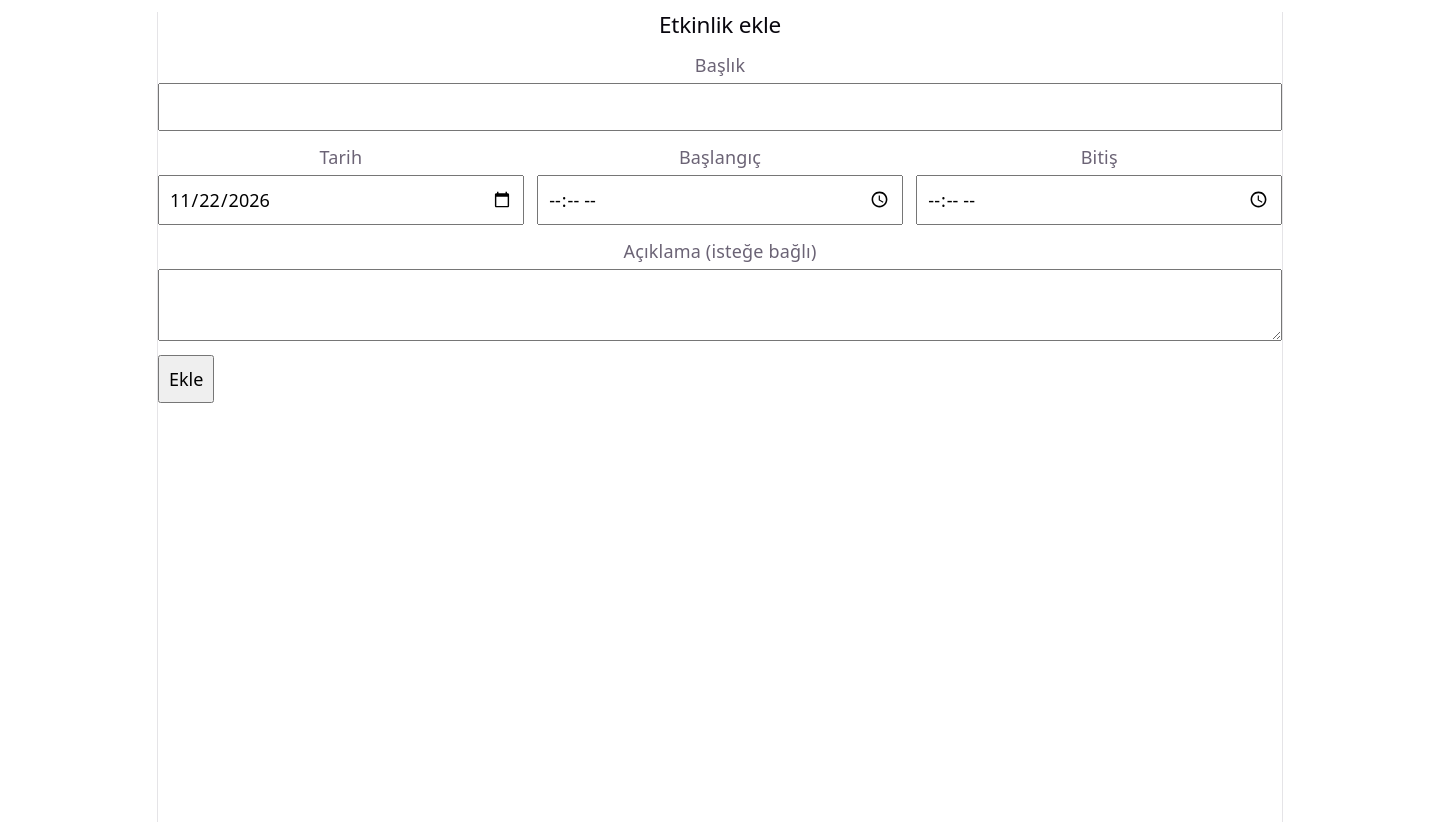
AddEventForm (FR-M3-01) › disables the button while the event is being saved
In the field labelled "Başlık": (720, 107) [158,83,1282,131], type "Yüzme"
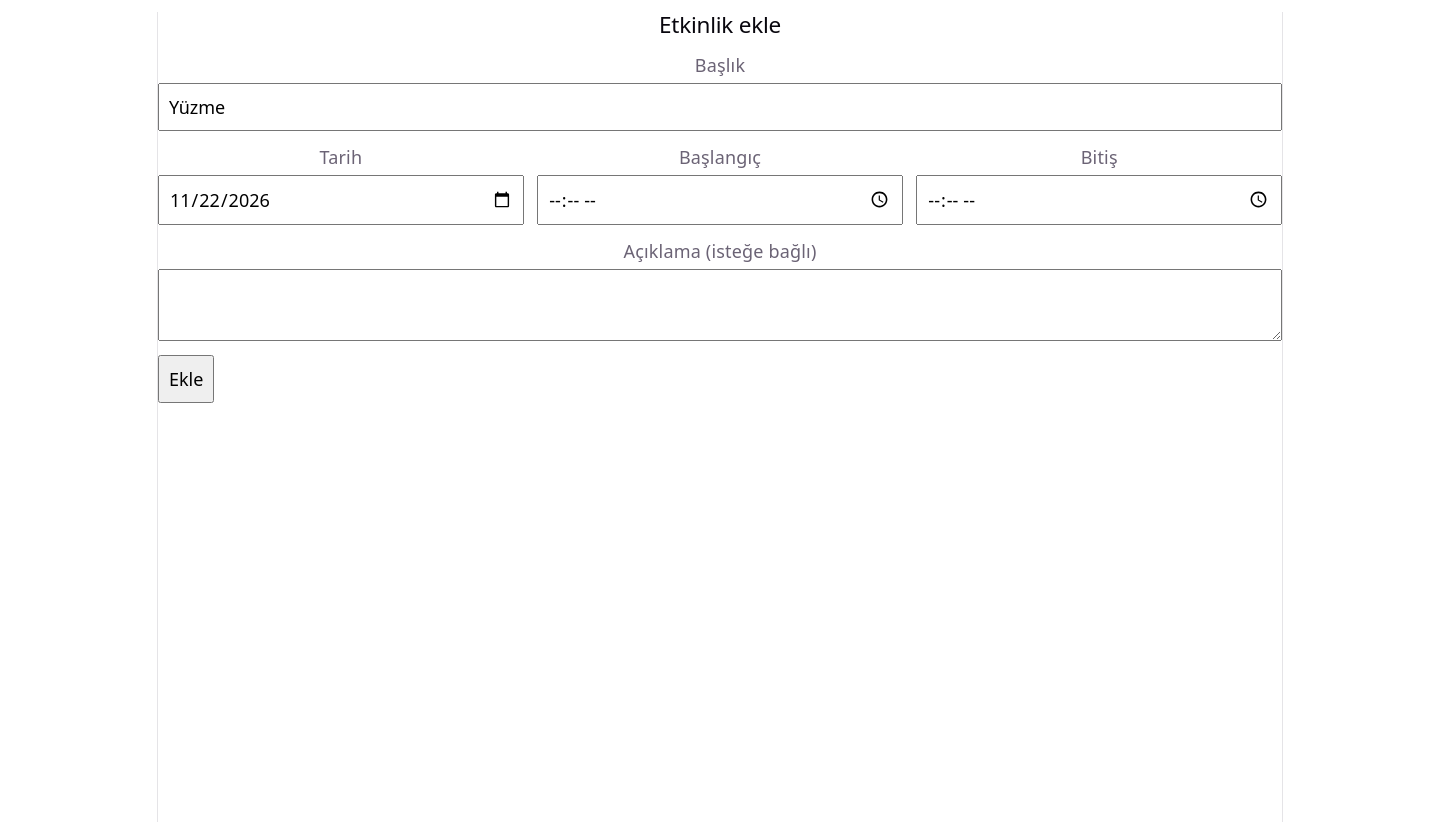
In the date field labelled "Tarih": (341, 200) [158,175,524,225], type "2026-11-20"
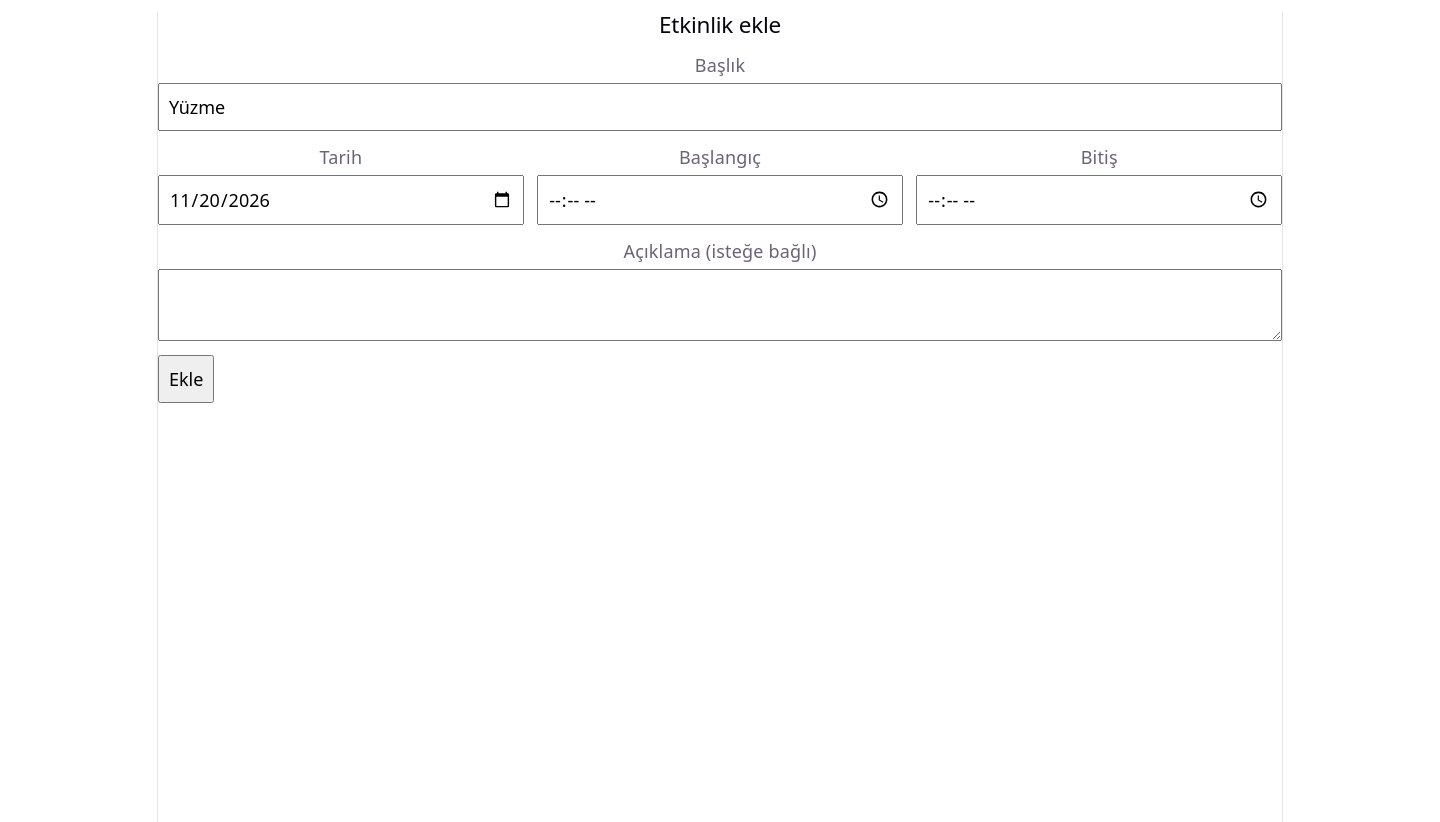
In the time field labelled "Başlangıç": (720, 200) [537,175,903,225], type "17:00"
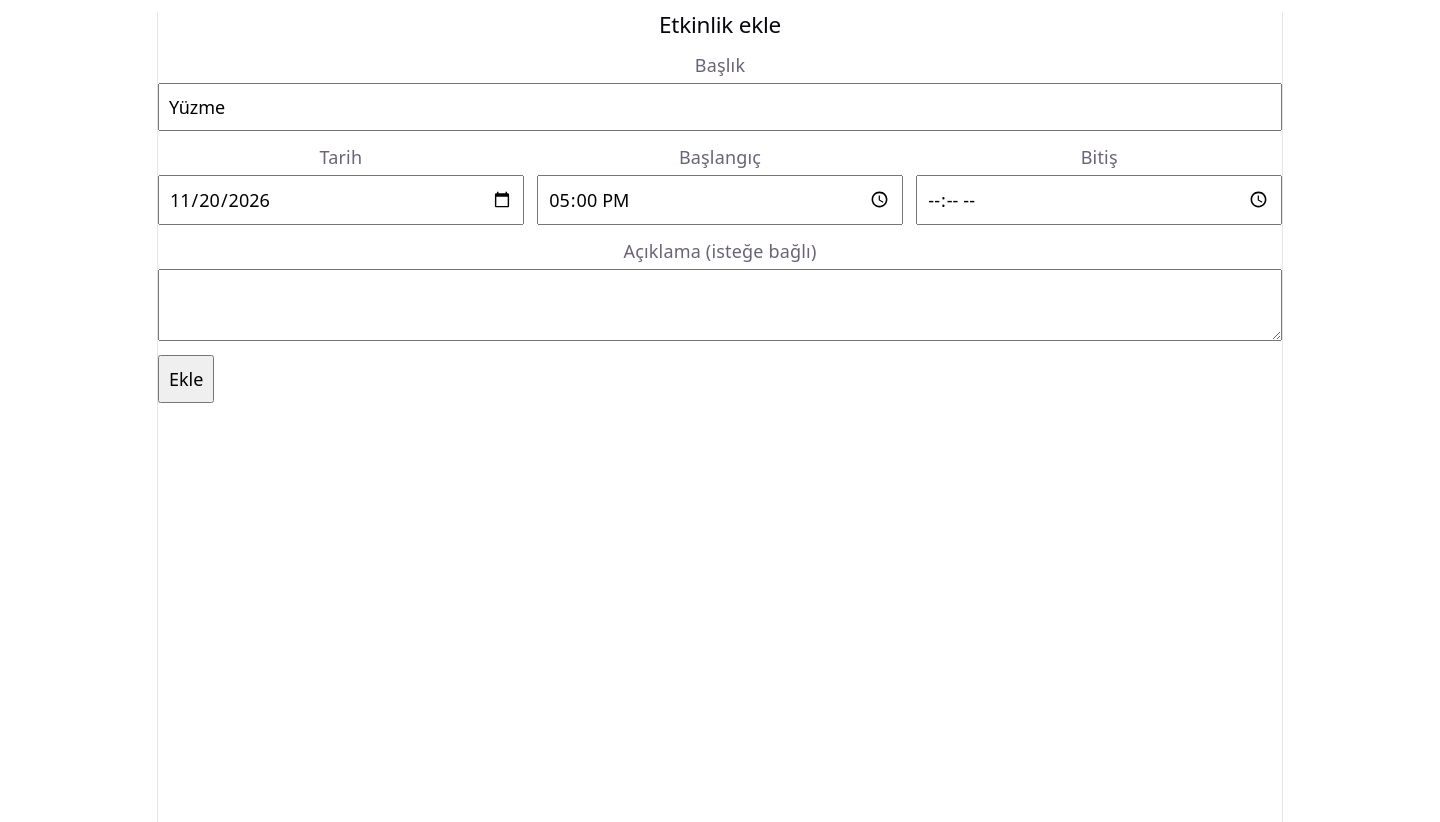
In the time field labelled "Bitiş": (1099, 200) [916,175,1282,225], type "18:00"
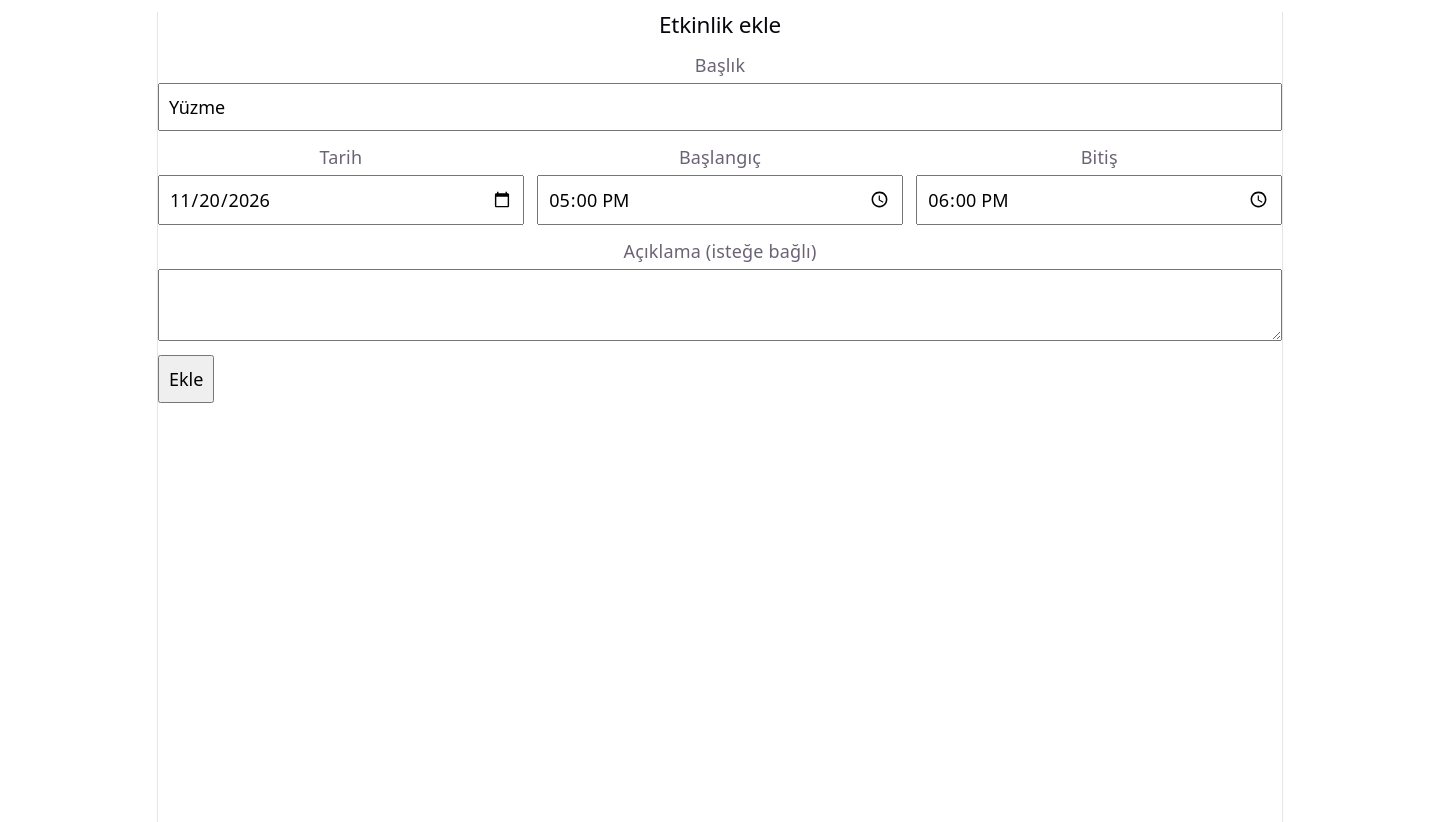
In the text box labelled "Açıklama (isteğe bağlı)": (720, 305) [158,269,1282,341], type "Havlu getir."
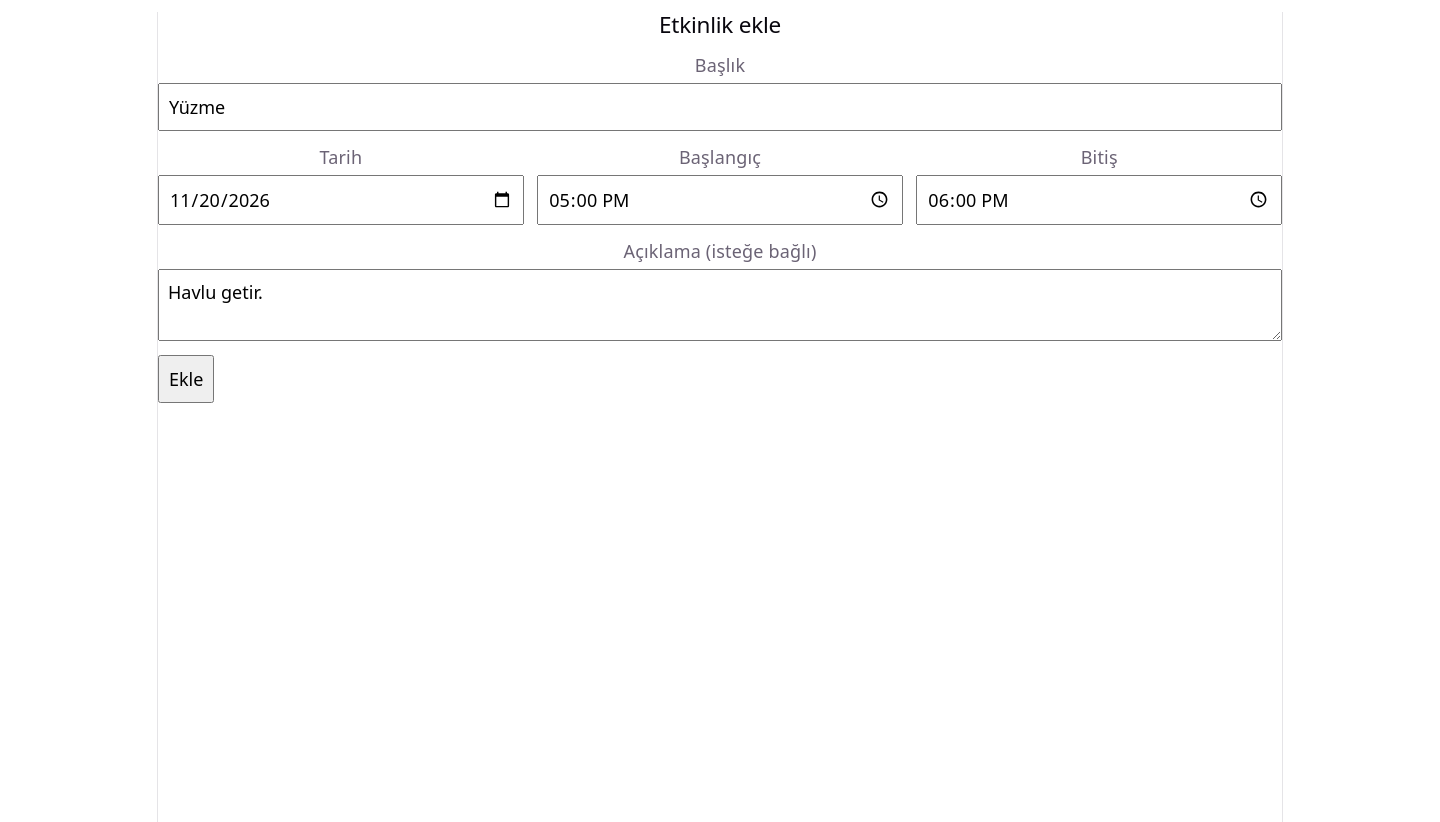
Click the button "Ekle": (186, 379) [158,355,214,403]
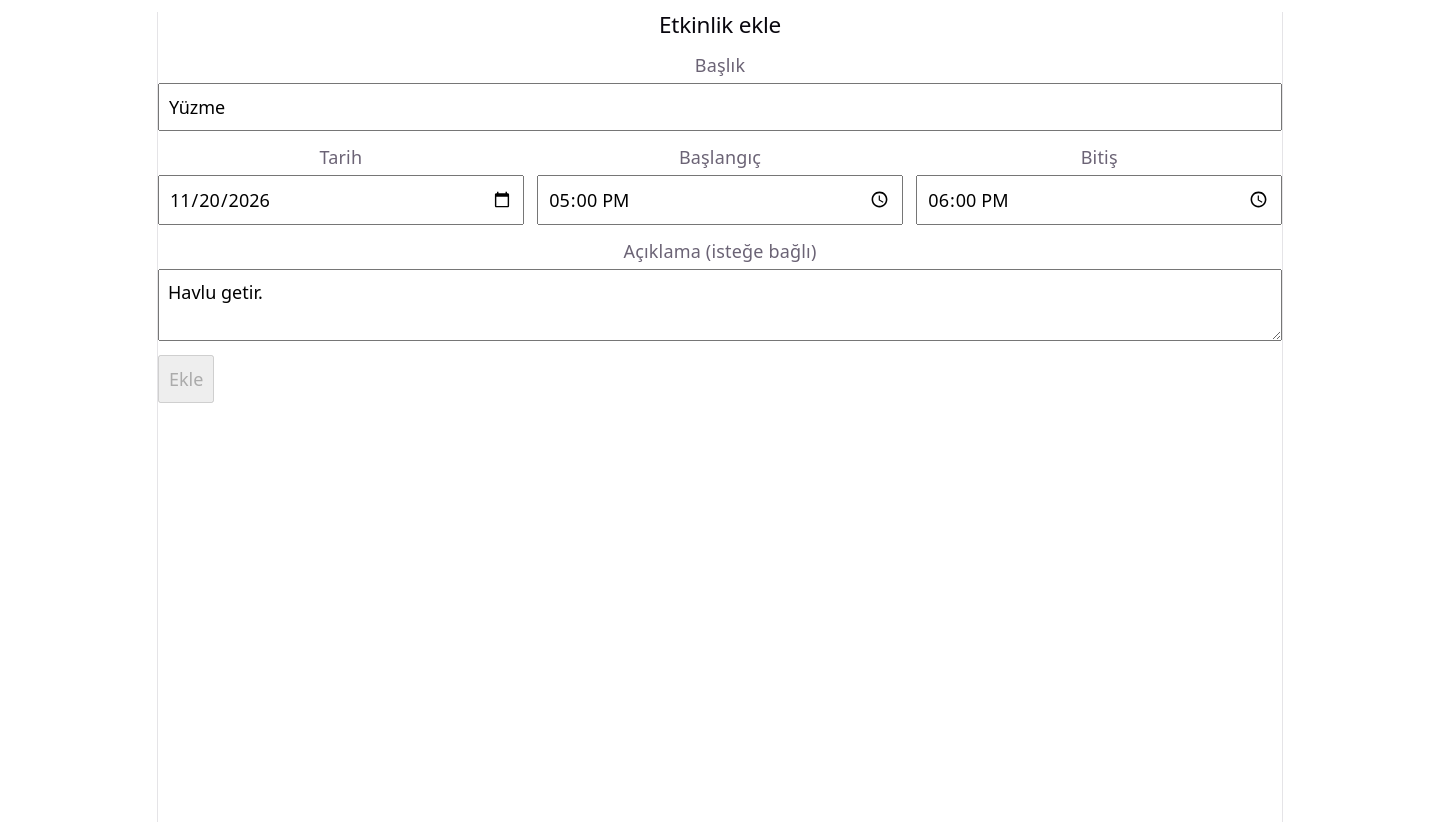
Result: the button "Ekle" is disabled at [158,355,214,403]
